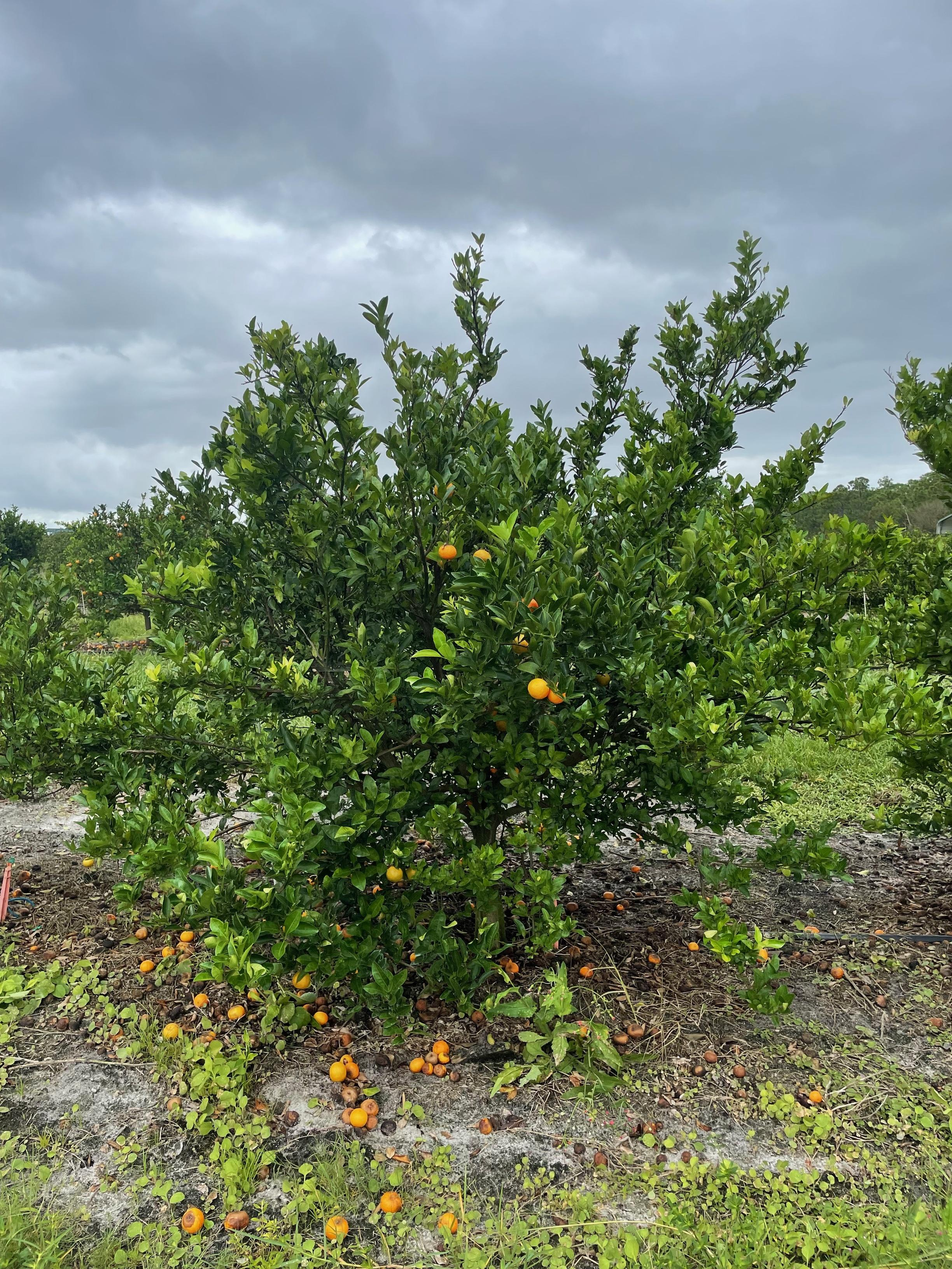fruit_on_ground: (509, 631, 535, 655), (431, 478, 457, 502), (515, 594, 542, 617), (545, 680, 568, 705), (527, 677, 550, 701), (436, 541, 459, 562), (471, 546, 494, 567), (290, 970, 312, 990), (494, 713, 514, 734), (593, 667, 613, 688), (385, 864, 405, 884), (245, 986, 262, 1003), (754, 947, 770, 964), (81, 855, 96, 868)
fruit_on_tree: (323, 1214, 350, 1241), (179, 1205, 205, 1232), (222, 1208, 250, 1231), (436, 1210, 461, 1235), (378, 1190, 402, 1213), (348, 1107, 369, 1128), (431, 1038, 452, 1058), (328, 1061, 347, 1083), (361, 1097, 381, 1117), (161, 1021, 181, 1040), (340, 1085, 360, 1104), (475, 1116, 494, 1136), (226, 1003, 247, 1021), (196, 1027, 218, 1043), (343, 1061, 362, 1079), (192, 991, 210, 1009), (469, 1008, 488, 1025), (593, 1150, 610, 1169), (408, 1056, 426, 1073), (503, 960, 521, 976), (626, 1022, 645, 1037), (340, 1107, 356, 1124), (808, 1088, 825, 1104), (313, 1009, 330, 1025), (612, 1031, 630, 1046), (138, 958, 156, 973), (313, 993, 329, 1009), (179, 927, 196, 942), (423, 1050, 440, 1065), (339, 1030, 354, 1046), (133, 925, 149, 940), (55, 1016, 72, 1030), (497, 953, 514, 967), (436, 1050, 451, 1065), (433, 1063, 448, 1078), (338, 1053, 354, 1067), (160, 944, 176, 958), (413, 996, 429, 1010), (578, 963, 594, 977), (702, 1049, 718, 1063), (403, 950, 418, 964), (830, 965, 845, 979), (103, 937, 119, 950), (369, 883, 385, 896), (448, 1068, 462, 1082), (692, 1063, 706, 1077), (421, 1062, 435, 1076), (17, 868, 32, 881), (732, 1064, 747, 1077), (28, 942, 43, 954), (686, 941, 701, 953), (514, 897, 528, 909), (43, 948, 57, 960), (565, 899, 579, 911), (648, 952, 662, 964), (720, 895, 735, 906), (9, 886, 23, 897), (105, 911, 117, 923), (96, 967, 109, 978), (602, 889, 615, 900), (630, 863, 642, 874), (633, 889, 644, 898), (616, 903, 626, 912)
